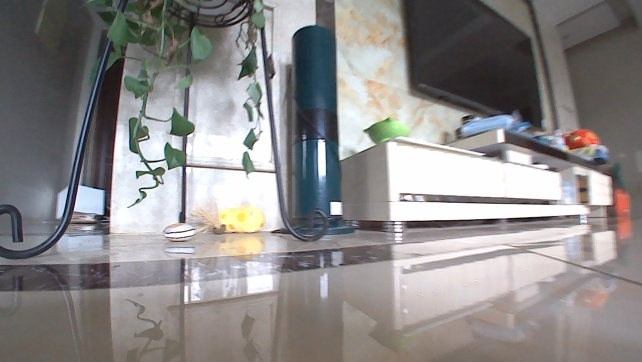TV_stand: (339, 125, 617, 235)
